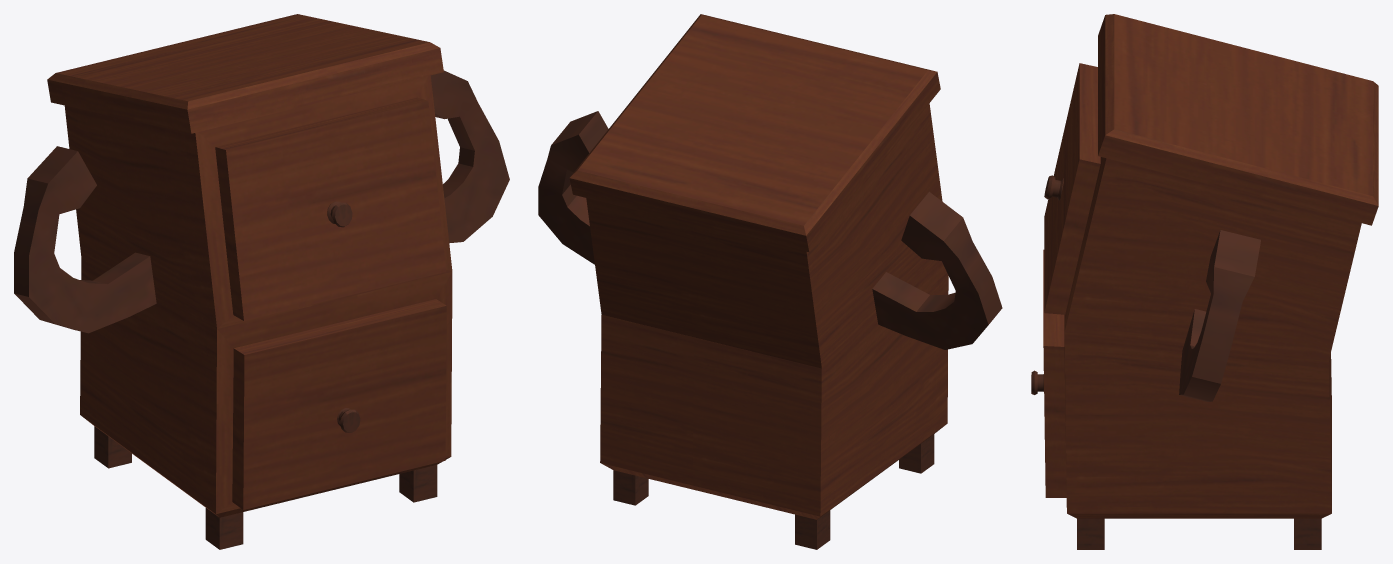
Rendered from Cabinet_variation_2.fbx.
3 views of the same model, side by side, from view 1: azimuth 30°, elevation 25°; view 2: azimuth 150°, elevation 25°; view 3: azimuth 270°, elevation 25° (orthographic). The views are drawn at different scales.
Visible parts, largest first — view 1: Cabinet_Variation_2; view 2: Cabinet_Variation_2; view 3: Cabinet_Variation_2.
Part boxes in pixels (x1,y1,x2,y2): Cabinet_Variation_2: (14, 14, 509, 549); Cabinet_Variation_2: (538, 14, 1002, 549); Cabinet_Variation_2: (1031, 14, 1378, 549).
Bounding box in the file's own units: 409 × 355 × 262.
